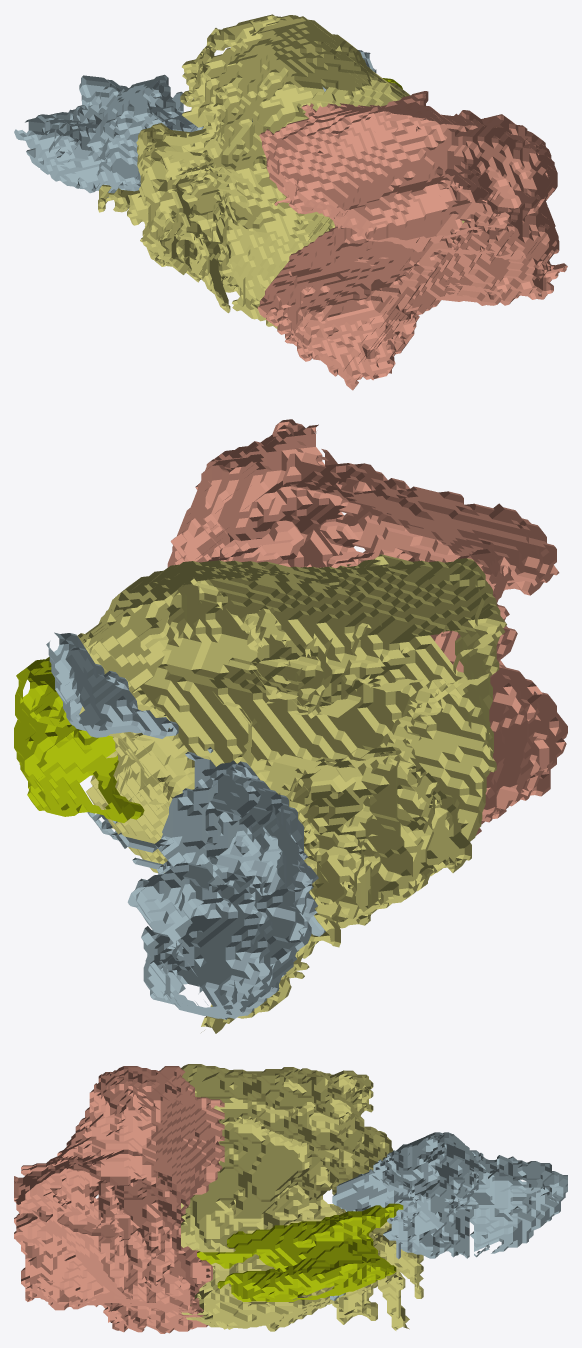
File: brainstemSsLabels.glb
The picture shows the model from 3 angles, top to bottom: view 1: azimuth 30°, elevation 25°; view 2: azimuth 150°, elevation 25°; view 3: azimuth 270°, elevation 25°; orthographic projection. The views are drawn at different scales.
Visible parts, largest first — view 1: 173_Midbrain, 174_Pons, 175_Medulla; view 2: 174_Pons, 173_Midbrain, 175_Medulla, 178_SCP; view 3: 173_Midbrain, 174_Pons, 175_Medulla, 178_SCP.
Part boxes in pixels (box(x1,y1,x2,y2)): 173_Midbrain: box(257, 91, 567, 390); 174_Pons: box(98, 14, 465, 328); 175_Medulla: box(14, 50, 376, 197); 174_Pons: box(77, 554, 506, 1033); 173_Midbrain: box(167, 419, 567, 848); 175_Medulla: box(46, 632, 325, 1019); 178_SCP: box(14, 656, 144, 822); 173_Midbrain: box(14, 1066, 224, 1333); 174_Pons: box(158, 1064, 423, 1331); 175_Medulla: box(330, 1132, 567, 1300); 178_SCP: box(197, 1203, 403, 1301).
Bounding box in the file's own units: 33.5 × 31.5 × 60.5.
